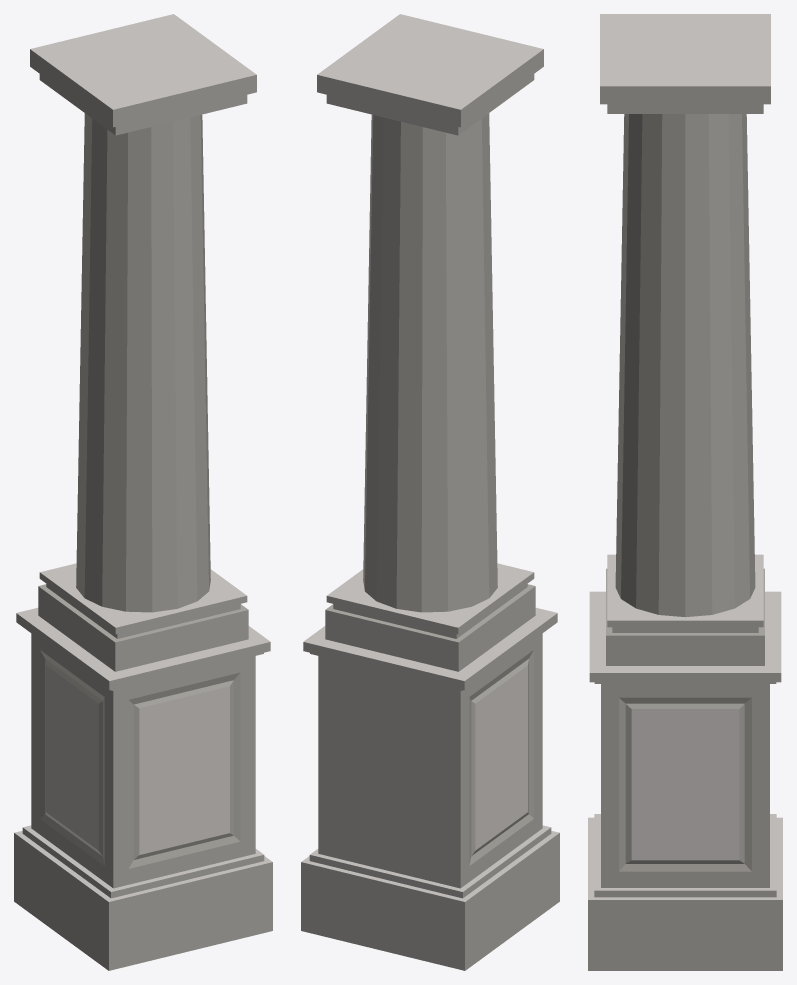
The model's file is pillar1.glb.
3 renders of one model, left to right at view 1: azimuth 30°, elevation 25°; view 2: azimuth 150°, elevation 25°; view 3: azimuth 270°, elevation 25°, orthographic. The views are drawn at different scales.
Parts seen in each view (by area): view 1: Column; view 2: Column; view 3: Column.
Part boxes in pixels (left/top/right/bottom): Column: left=14, top=14, right=272, bottom=970; Column: left=301, top=14, right=559, bottom=970; Column: left=588, top=14, right=782, bottom=970.
Size of the model in its own units: 0.65 by 3.24 by 0.65.
Materials: 1 (1 with a texture image).
